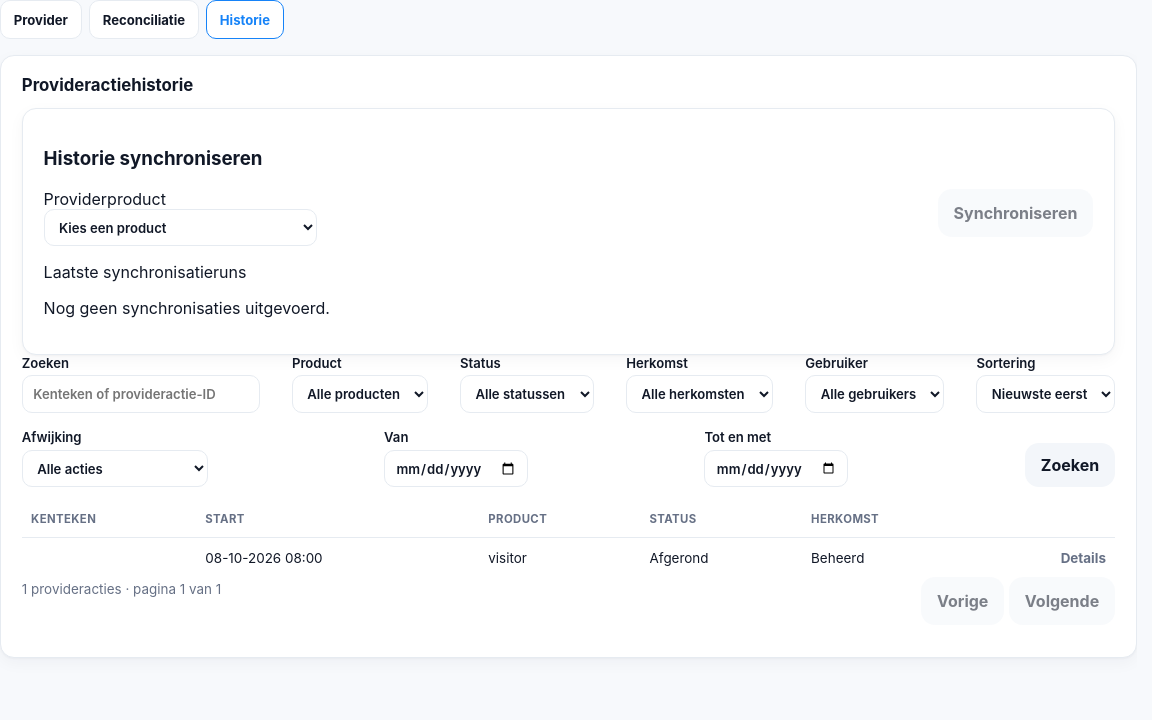
Scenario: AdminProviderHistoryPage assignment › shows visit user without manual assignment for managed actions
Click the button "Details" at (1083, 558), box top-left (1061, 550), bottom-right (1106, 566)
(page scrolled)
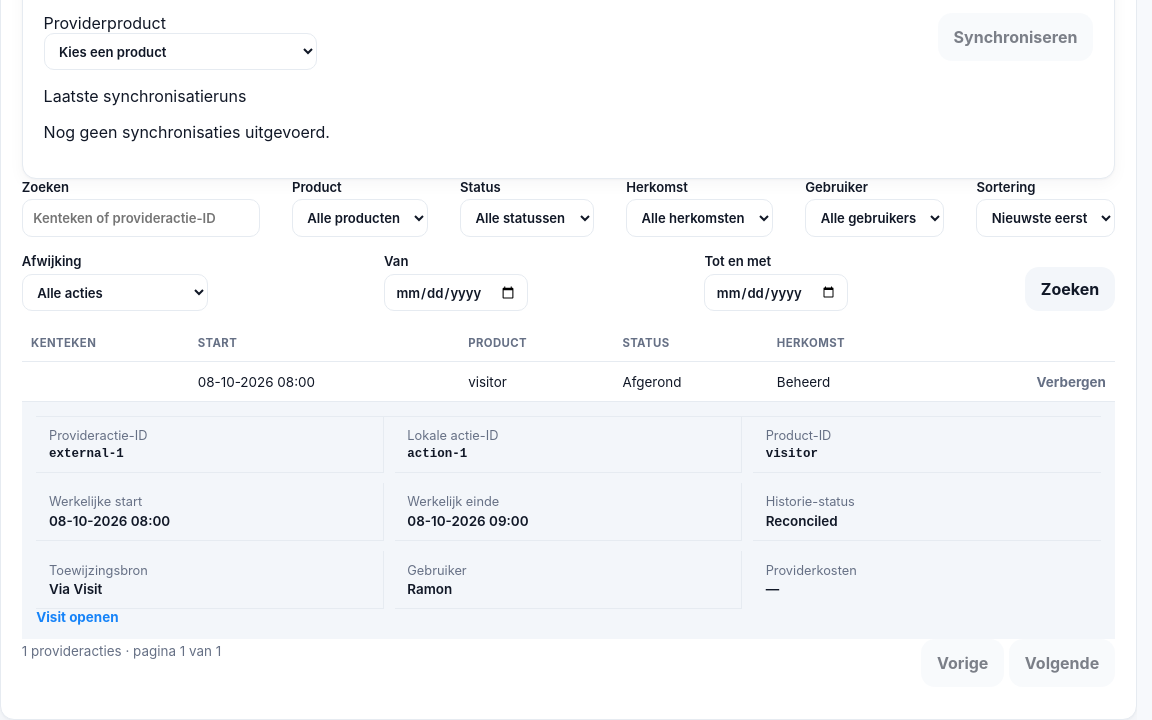
Expected: the text "Via Visit" is shown, top-left (49, 581), bottom-right (102, 597)
